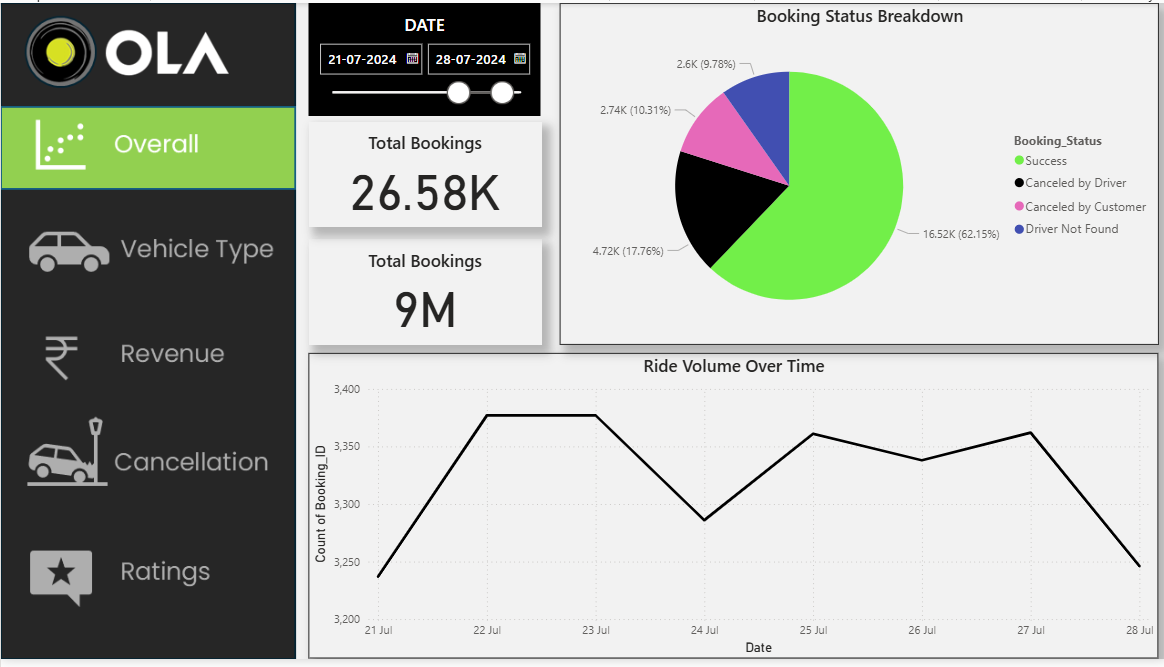

Layout of this report page (visuals, bound fields, positions):
{"tool":"powerbi","page":{"name":"Overall","canvas":[1280,720],"ordinal":0},"visuals":[{"type":"actionButton","box":[0,220.8,324.5,95.3],"z":0},{"type":"actionButton","box":[0,336.6,324.5,95.3],"z":1000},{"type":"actionButton","box":[0,451.2,324.5,95.3],"z":2000},{"type":"actionButton","box":[1.2,580.3,324.5,95.3],"z":3000},{"type":"actionButton","box":[0,103.8,324.5,95.3],"z":4000},{"type":"lineChart","title":"Ride Volume Over Time","fields":{"Y":["CountNonNull(July.Booking_ID)"],"Category":["July.Date"]},"box":[337.8,384.9,932.6,335.4],"z":5000},{"type":"pieChart","title":"Booking Status Breakdown","fields":{"Category":["July.Booking_Status"],"Y":["CountNonNull(July.Booking_Status)"]},"box":[612.9,0,657.5,375.2],"z":6000},{"type":"slicer","title":"DATE","fields":{"Values":["July.Date"]},"box":[337.8,0,254.6,123.1],"z":7000},{"type":"card","title":"Total Bookings","fields":{"Values":["CountNonNull(July.Customer_ID)"]},"box":[337.8,130.3,255.8,115.8],"z":8000},{"type":"card","title":"Total Bookings","fields":{"Values":["Sum(July.Booking_Value)"]},"box":[337.8,259.4,255.8,115.8],"z":9000}]}

Visuals, with their boxes in screenshot pixels (x1, y1, x2, y2), scaled from the page's 1280x720 canvas onto the 1164x667 screenshot:
actionButton: Rect(0, 205, 295, 293)
actionButton: Rect(0, 312, 295, 400)
actionButton: Rect(0, 418, 295, 506)
actionButton: Rect(1, 538, 296, 626)
actionButton: Rect(0, 96, 295, 184)
"Ride Volume Over Time" lineChart: Rect(307, 357, 1155, 666)
"Booking Status Breakdown" pieChart: Rect(557, 0, 1155, 348)
"DATE" slicer: Rect(307, 0, 539, 114)
"Total Bookings" card: Rect(307, 121, 540, 228)
"Total Bookings" card: Rect(307, 240, 540, 348)
